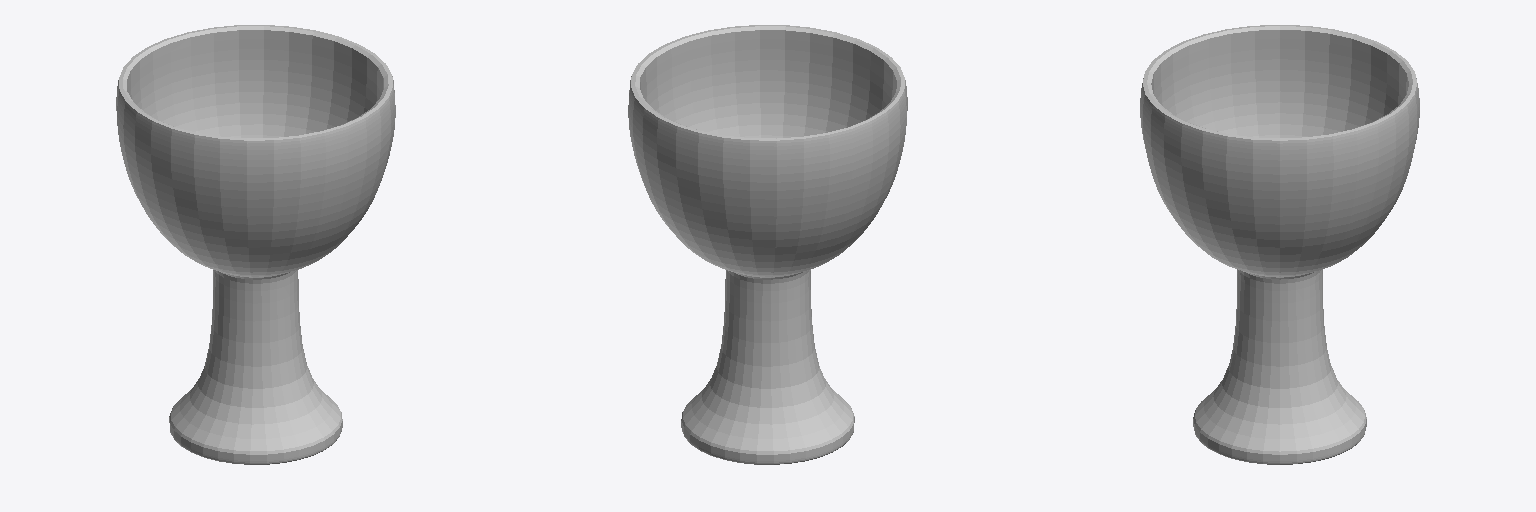
3 renders of one model, left to right at view 1: azimuth 30°, elevation 25°; view 2: azimuth 150°, elevation 25°; view 3: azimuth 270°, elevation 25°, orthographic.
Parts seen in each view (by area): view 1: Grail__0; view 2: Grail__0; view 3: Grail__0.
Part boxes in pixels (bbox=[...]): Grail__0: bbox=[116, 25, 395, 464]; Grail__0: bbox=[628, 25, 907, 464]; Grail__0: bbox=[1140, 25, 1419, 464].
Size of the model in its own units: 1.11 by 1.52 by 1.11.